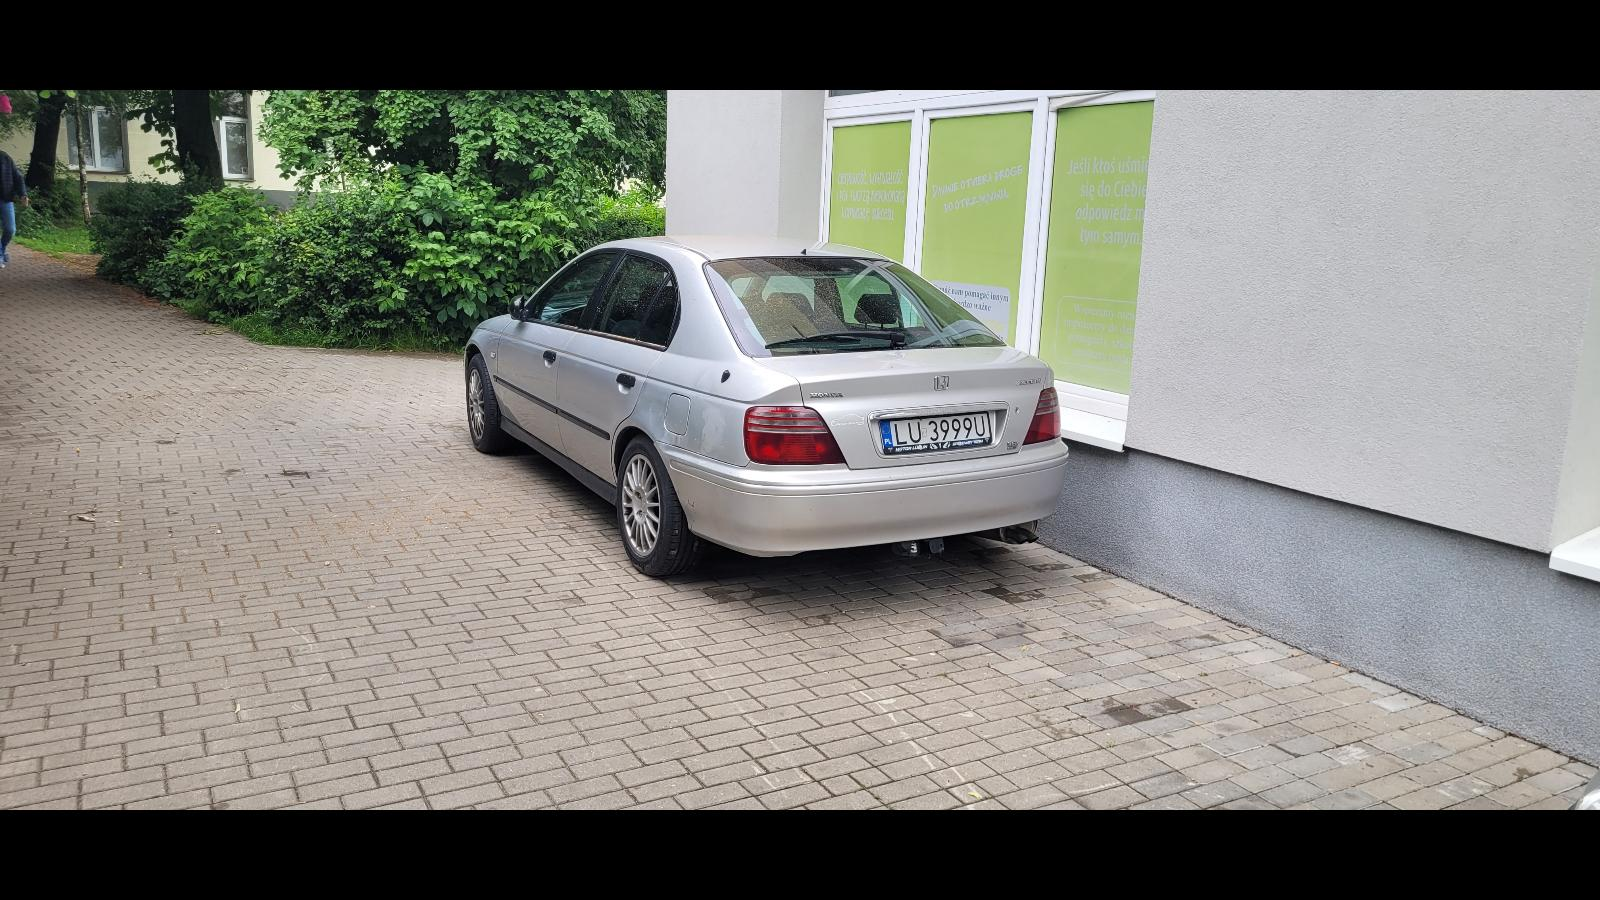plates: (878, 412, 992, 455)
